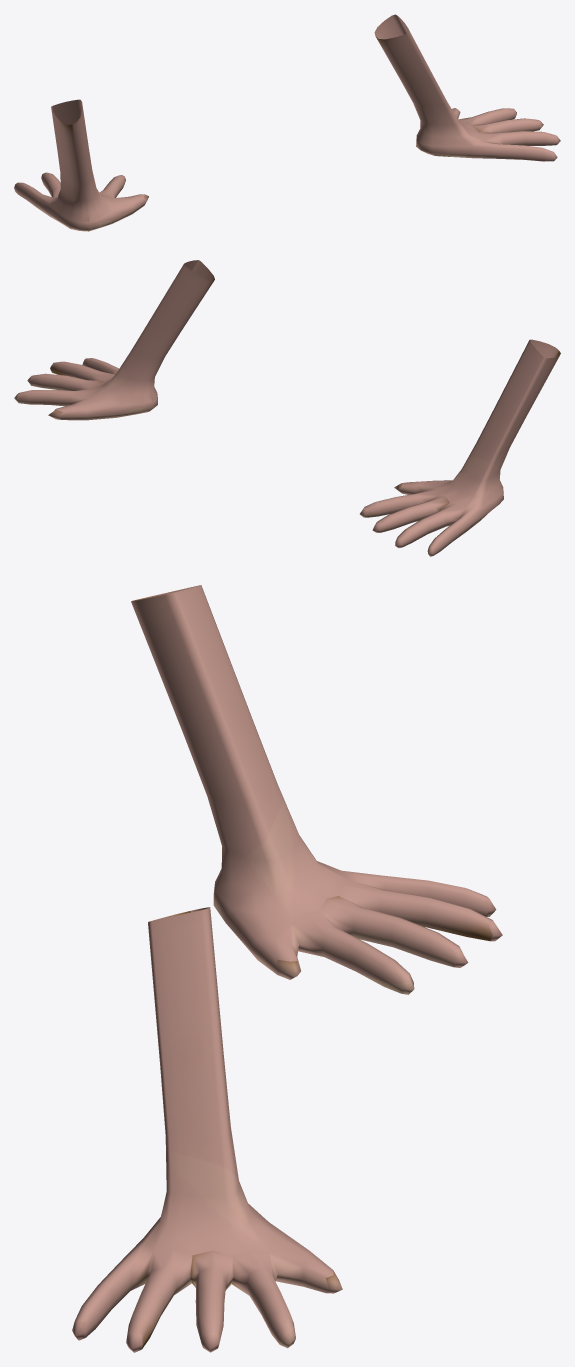
The model's file is legs2.obj.
3 views of the same model, one above another, from view 1: azimuth 30°, elevation 25°; view 2: azimuth 150°, elevation 25°; view 3: azimuth 270°, elevation 25° (orthographic). The views are drawn at different scales.
Visible parts, largest first — view 1: patas2; view 2: patas2; view 3: patas2.
Part boxes in pixels (box(x1,y1,x2,y2)): patas2: box(14, 14, 560, 231); patas2: box(14, 260, 560, 556); patas2: box(72, 585, 502, 1352).
Size of the model in its own units: 0.235 by 0.0697 by 0.0882.
1 material, 1 textured.
